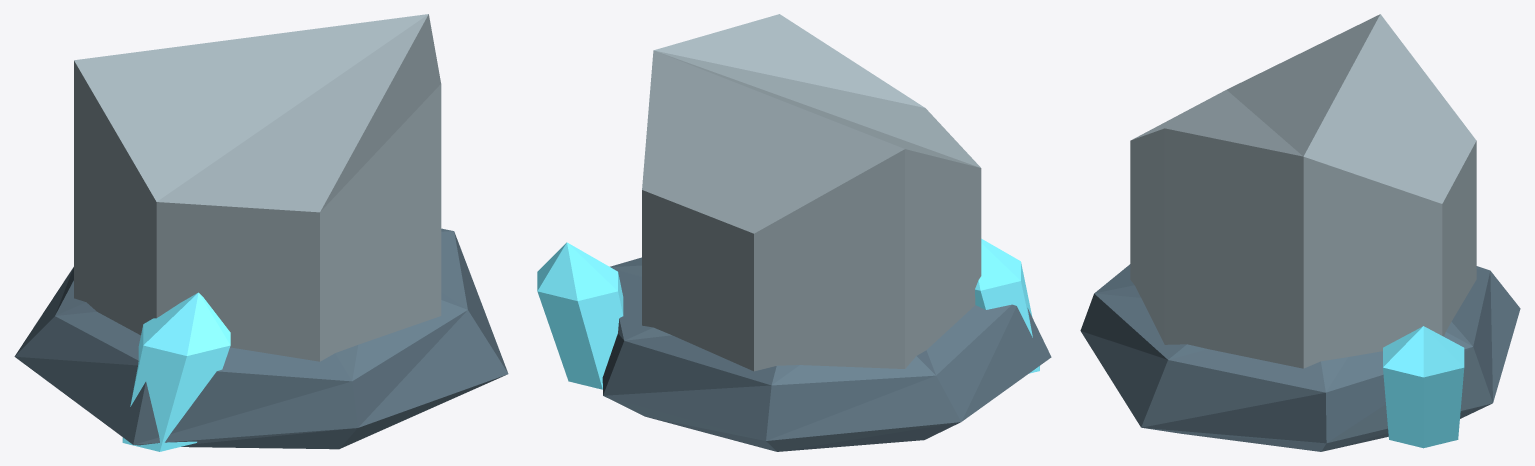
Rendered from ice_pillar_broken.glb.
3 renders of one model, left to right at view 1: azimuth 30°, elevation 25°; view 2: azimuth 150°, elevation 25°; view 3: azimuth 270°, elevation 25°, orthographic. The views are drawn at different scales.
Parts seen in each view (by area): view 1: geometry, crystals; view 2: geometry, crystals; view 3: geometry, crystals.
Boxes of the visible parts, x1=… form: geometry: x1=14, y1=14, x2=508, y2=449; crystals: x1=122, y1=292, x2=230, y2=451; geometry: x1=602, y1=14, x2=1051, y2=451; crystals: x1=537, y1=238, x2=1039, y2=389; geometry: x1=1080, y1=14, x2=1520, y2=451; crystals: x1=1383, y1=326, x2=1464, y2=448.
Bounding box in the file's own units: 0.8964 × 0.63 × 0.8429.
